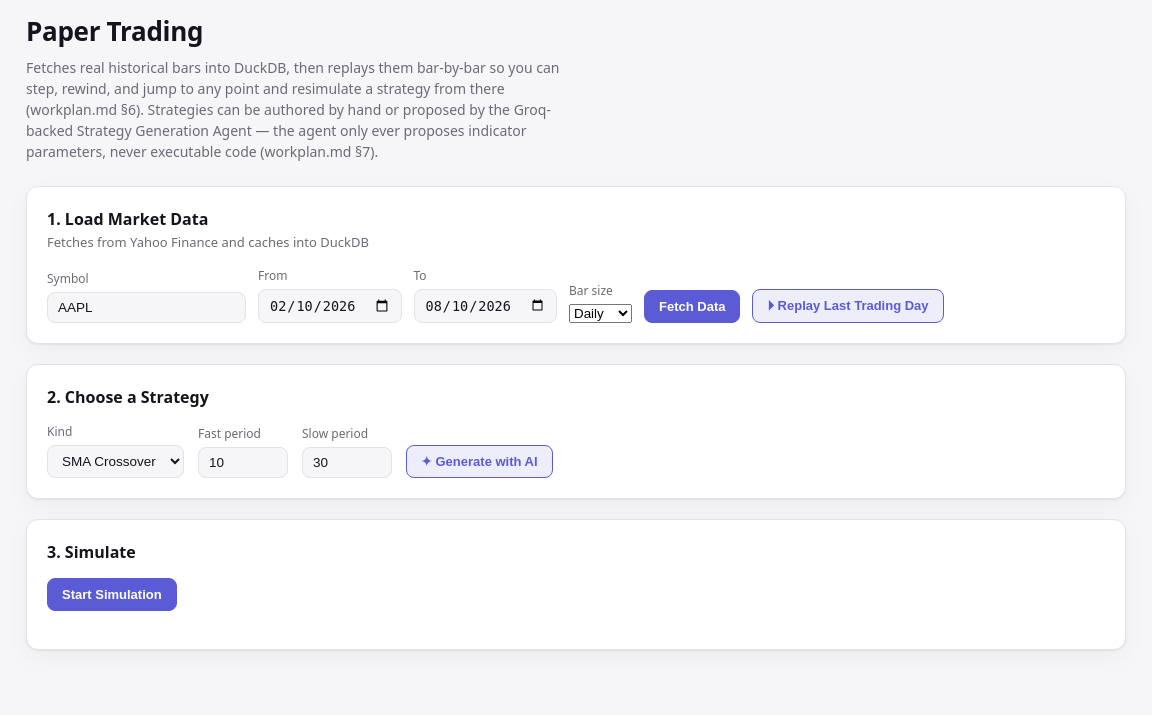
PaperTrading page › starts a simulation and renders stats once bars + session come back
Click the button "Start Simulation" at (112, 594), box x1=47 y1=578 x2=177 y2=610
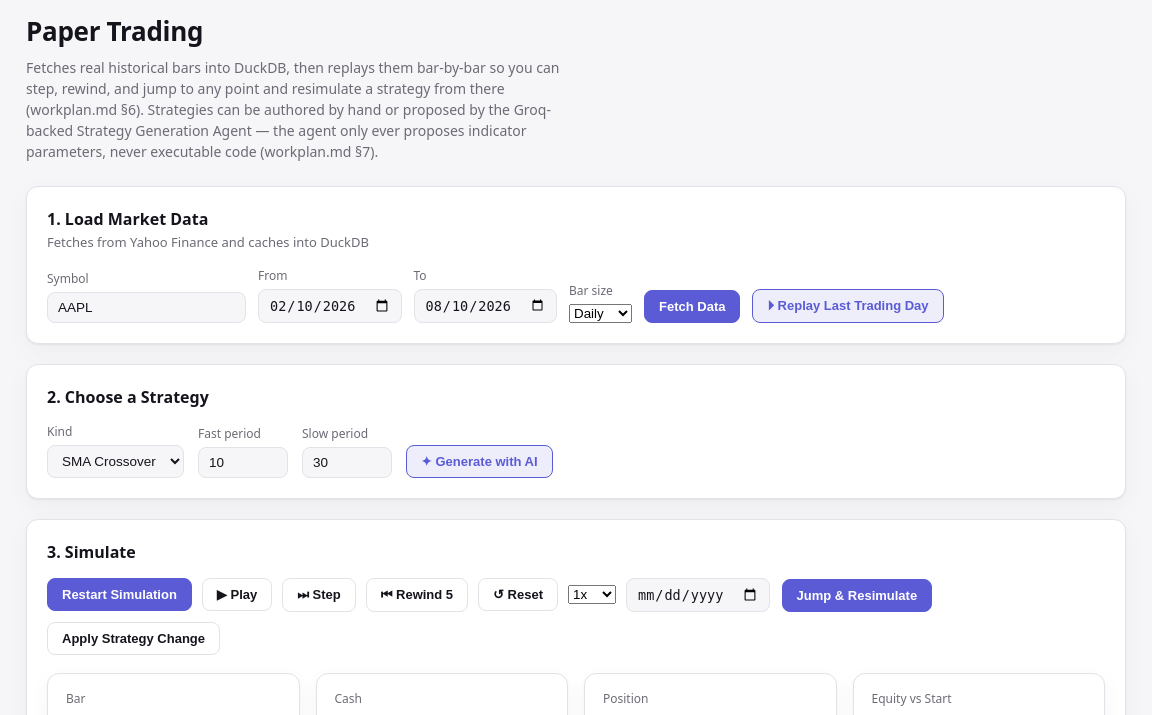
Now the button "▶ Play" is shown, box x1=202 y1=578 x2=272 y2=611
